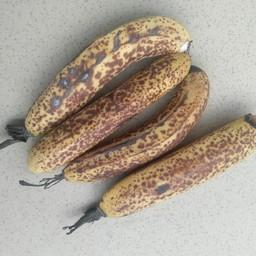Bad_banana: (18, 15, 253, 240)
